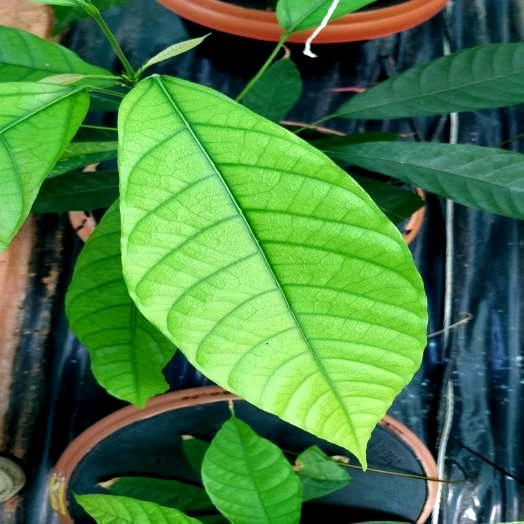Healthy Leaf: (324, 141, 523, 219), (330, 43, 523, 119), (101, 477, 213, 511), (243, 58, 301, 122), (33, 171, 118, 213)
Iron: (120, 76, 427, 466), (66, 201, 175, 407), (0, 82, 89, 248), (202, 412, 301, 523), (0, 26, 109, 82), (75, 494, 201, 523)
